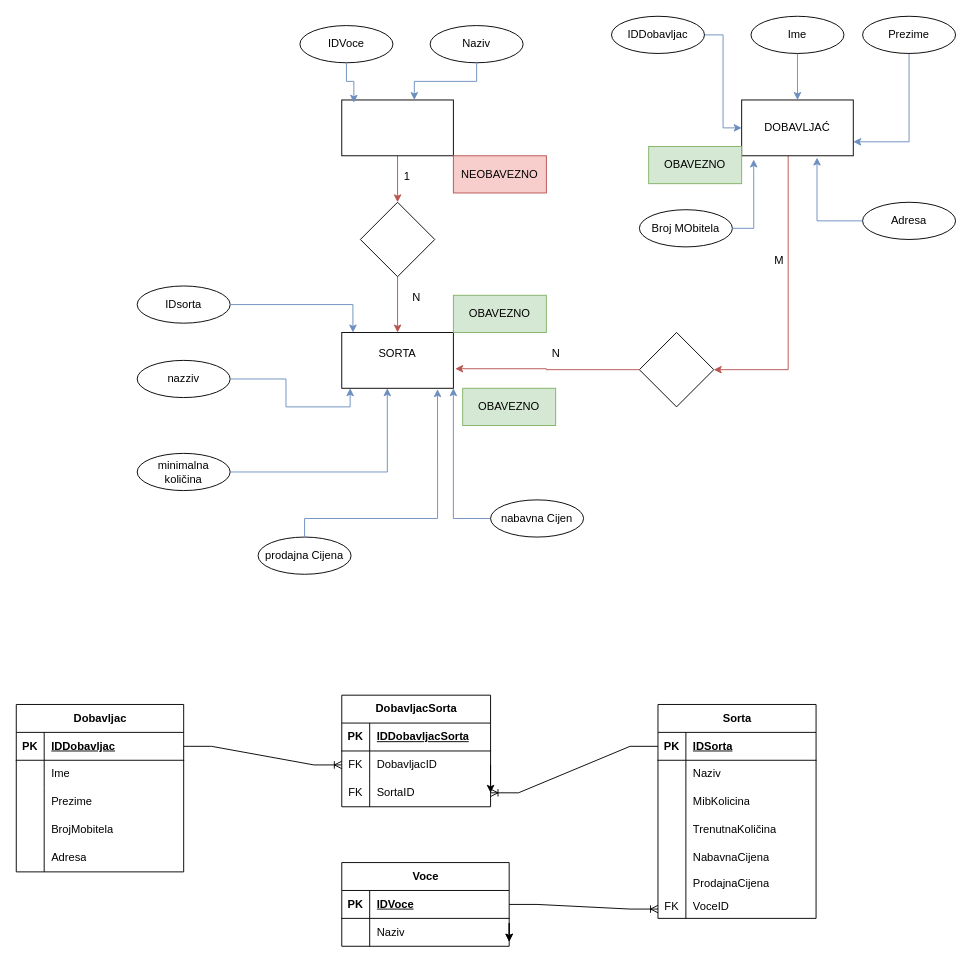
Image size: 972x965. Some labels were removed from this diagram. The box of each missing label's shape, as (x1, y1, x2, y2) in pixels:
dobavlja: (638, 332, 714, 407)
Se djeli na: (359, 201, 435, 277)
VOĆE: (341, 99, 453, 156)
